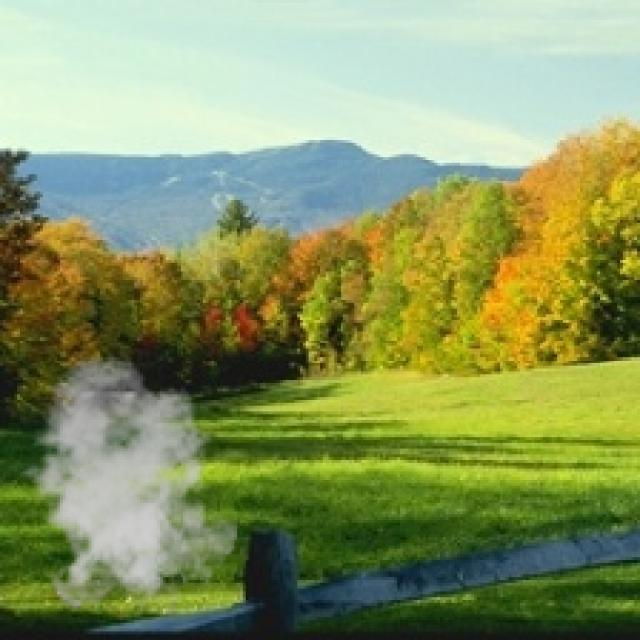smoke: (12, 354, 237, 614)
